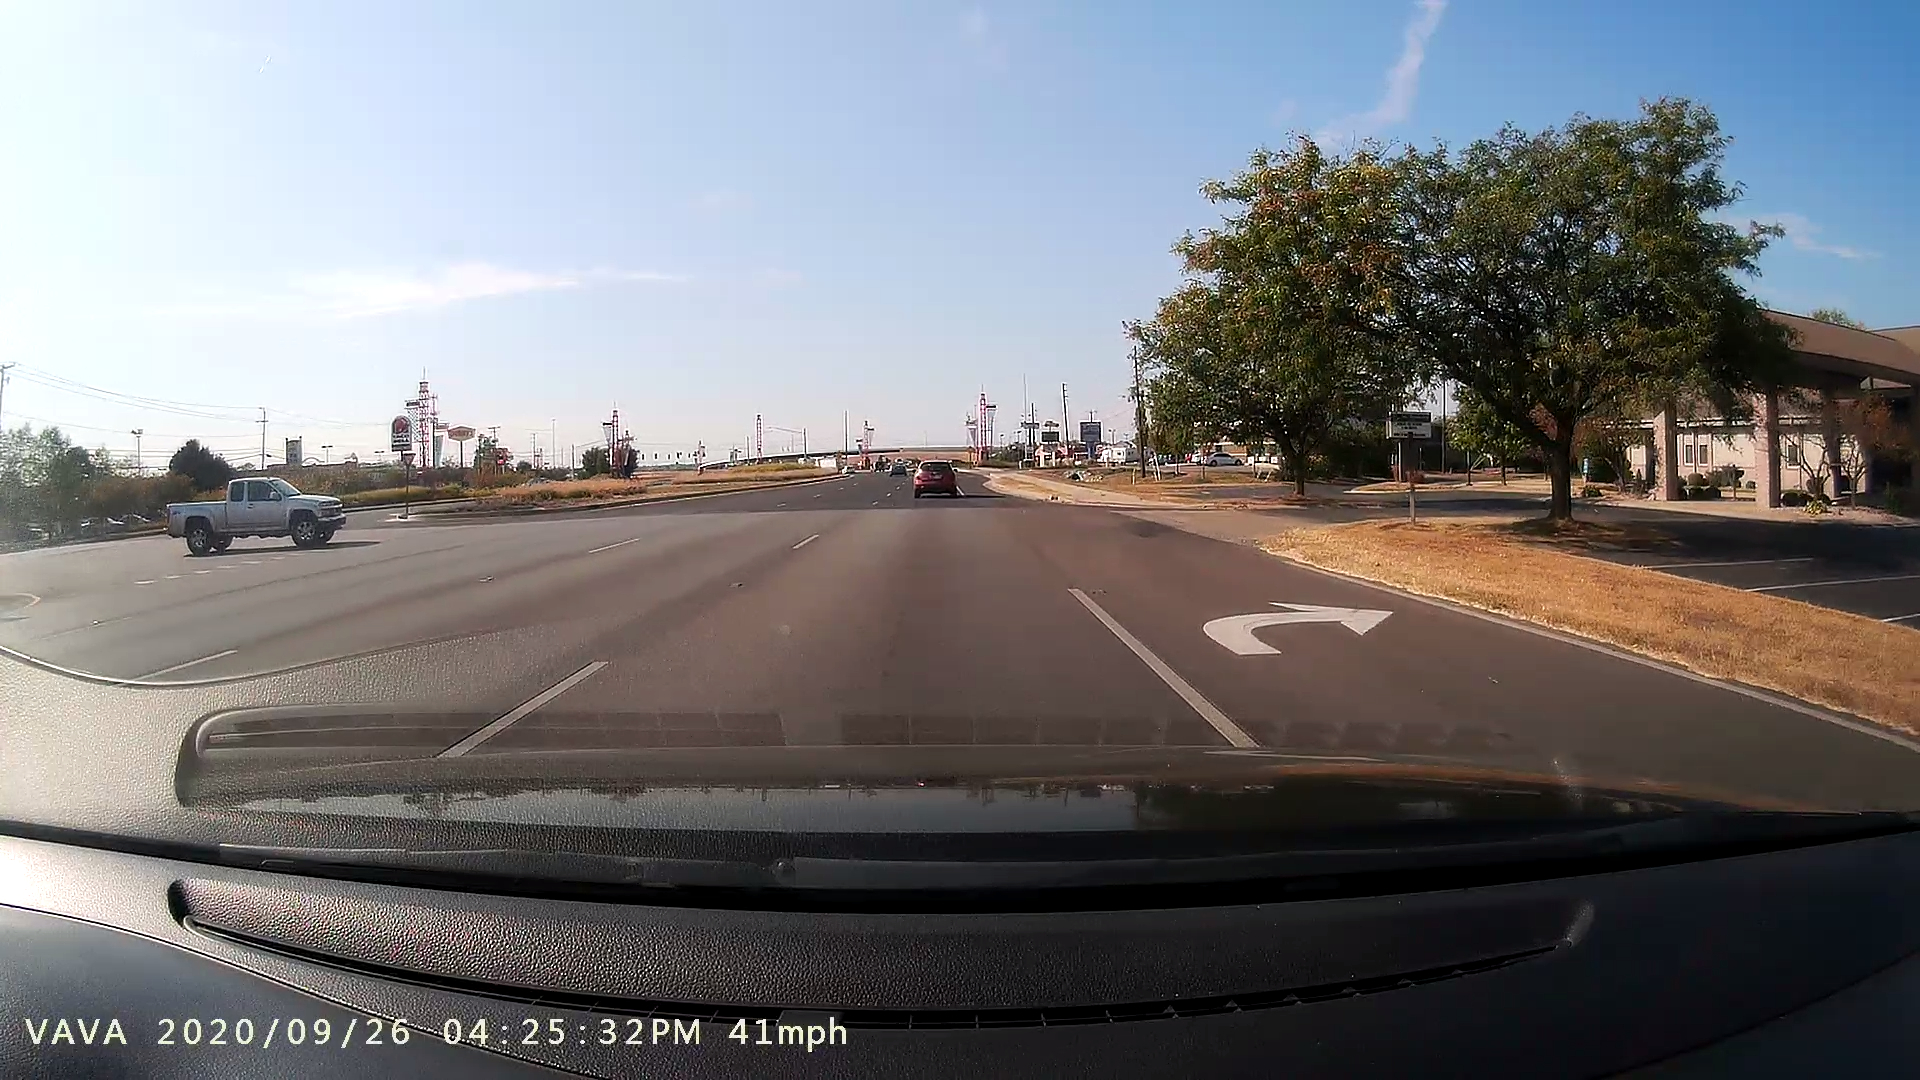right_turn: (1193, 585, 1399, 665)
